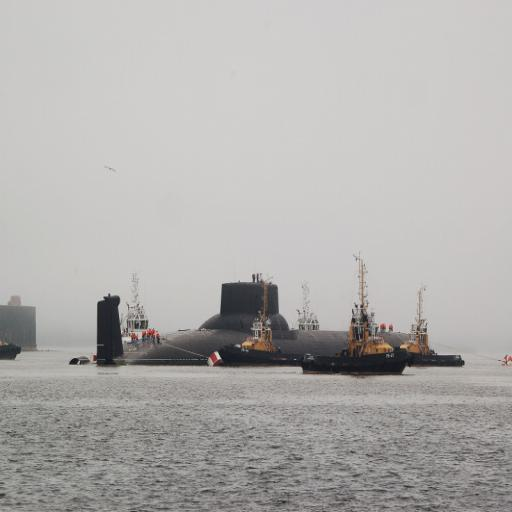submarine: (96, 283, 431, 365)
